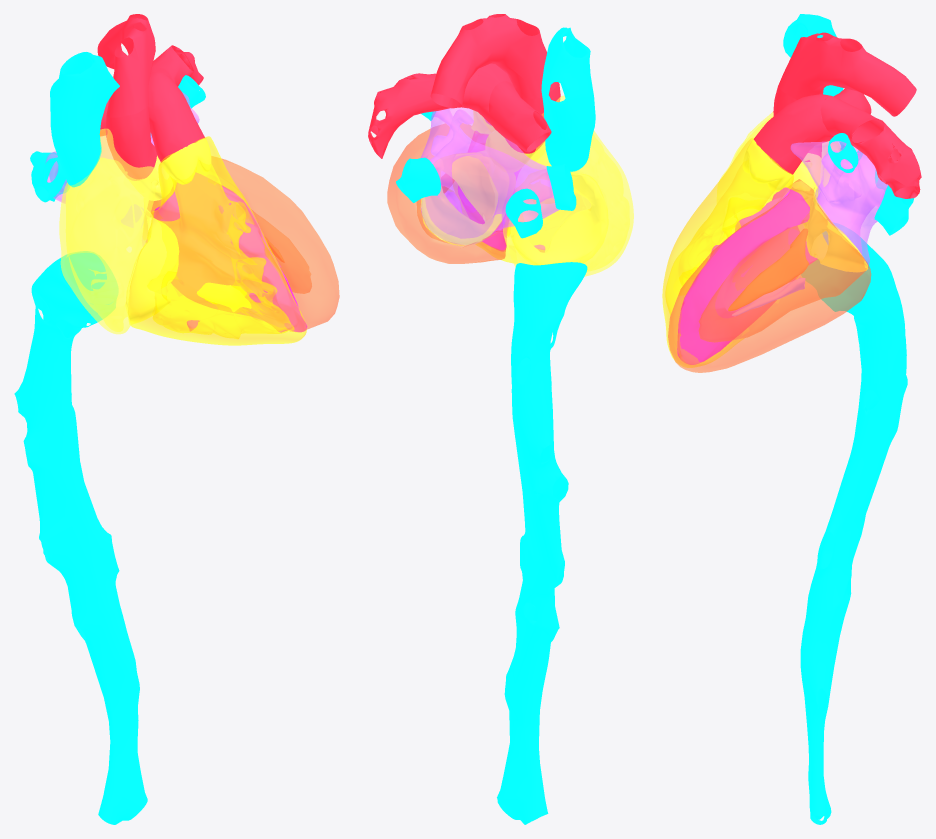
File: herz-male-mobil.glb
3 renders of one model, left to right at view 1: azimuth 30°, elevation 25°; view 2: azimuth 150°, elevation 25°; view 3: azimuth 270°, elevation 25°, orthographic.
Parts seen in each view (by area): view 1: 0:1:VH_M_heart_right_ventricle, 1:10:VH_M_inferior_vena_cava_b, 0:4:VH_M_right_cardiac_atrium, 0:2:VH_M_interventricular_septum, 0:0:VH_M_heart_left_ventricle, 1:11:VH_M_inferior_vena_cava_a, 1:9:VH_M_superior_vena_cava, 1:0:VH_M_aortic_arch, 0:9:VH_M_tricuspid_valve, 1:4:VH_M_pulmonary_trunk, 1:1:VH_M_ascending_aorta, 0:8:VH_M_pulmonary_valve (+6 smaller); view 2: 1:10:VH_M_inferior_vena_cava_b, 0:3:VH_M_left_cardiac_atrium, 0:4:VH_M_right_cardiac_atrium, 1:0:VH_M_aortic_arch, 1:11:VH_M_inferior_vena_cava_a, 1:9:VH_M_superior_vena_cava, 0:7:VH_M_mitral_valve, 0:0:VH_M_heart_left_ventricle, 0:9:VH_M_tricuspid_valve, 1:2:VH_M_pulmonary_artery_L, 1:3:VH_M_pulmonary_artery_R, 0:1:VH_M_heart_right_ventricle (+7 smaller); view 3: 0:0:VH_M_heart_left_ventricle, 1:10:VH_M_inferior_vena_cava_b, 0:2:VH_M_interventricular_septum, 0:1:VH_M_heart_right_ventricle, 1:0:VH_M_aortic_arch, 1:11:VH_M_inferior_vena_cava_a, 0:3:VH_M_left_cardiac_atrium, 1:2:VH_M_pulmonary_artery_L, 1:4:VH_M_pulmonary_trunk, 0:7:VH_M_mitral_valve, 0:12:VH_M_papillary_muscle_of_heart_anterolateral, 0:8:VH_M_pulmonary_valve (+8 smaller).
Part boxes in pixels (<box>): 0:1:VH_M_heart_right_ventricle: <box>128,136,306,345</box>; 1:10:VH_M_inferior_vena_cava_b: <box>14,346,147,824</box>; 0:4:VH_M_right_cardiac_atrium: <box>59,128,158,334</box>; 0:2:VH_M_interventricular_septum: <box>146,173,307,332</box>; 0:0:VH_M_heart_left_ventricle: <box>147,156,339,331</box>; 1:11:VH_M_inferior_vena_cava_a: <box>31,251,117,362</box>; 1:9:VH_M_superior_vena_cava: <box>50,52,119,187</box>; 1:0:VH_M_aortic_arch: <box>97,14,155,117</box>; 0:9:VH_M_tricuspid_valve: <box>125,217,178,324</box>; 1:4:VH_M_pulmonary_trunk: <box>148,72,204,162</box>; 1:1:VH_M_ascending_aorta: <box>105,106,156,180</box>; 0:8:VH_M_pulmonary_valve: <box>161,138,211,184</box>; 1:10:VH_M_inferior_vena_cava_b: <box>497,386,568,824</box>; 0:3:VH_M_left_cardiac_atrium: <box>420,107,558,245</box>; 0:4:VH_M_right_cardiac_atrium: <box>503,95,633,276</box>; 1:0:VH_M_aortic_arch: <box>430,14,557,108</box>; 1:11:VH_M_inferior_vena_cava_a: <box>511,262,587,395</box>; 1:9:VH_M_superior_vena_cava: <box>541,27,595,171</box>; 0:7:VH_M_mitral_valve: <box>421,151,515,245</box>; 0:0:VH_M_heart_left_ventricle: <box>387,123,507,263</box>; 0:9:VH_M_tricuspid_valve: <box>510,169,608,264</box>; 1:2:VH_M_pulmonary_artery_L: <box>368,69,478,158</box>; 1:3:VH_M_pulmonary_artery_R: <box>489,81,551,152</box>; 0:1:VH_M_heart_right_ventricle: <box>471,110,590,263</box>; 0:0:VH_M_heart_left_ventricle: <box>668,179,871,372</box>; 1:10:VH_M_inferior_vena_cava_b: <box>800,339,907,824</box>; 0:2:VH_M_interventricular_septum: <box>677,187,816,364</box>; 0:1:VH_M_heart_right_ventricle: <box>662,137,793,367</box>; 1:0:VH_M_aortic_arch: <box>778,32,916,116</box>; 1:11:VH_M_inferior_vena_cava_a: <box>801,223,905,349</box>; 0:3:VH_M_left_cardiac_atrium: <box>790,141,887,265</box>; 1:2:VH_M_pulmonary_artery_L: <box>820,96,921,198</box>; 1:4:VH_M_pulmonary_trunk: <box>753,94,840,174</box>; 0:7:VH_M_mitral_valve: <box>803,187,867,272</box>; 0:12:VH_M_papillary_muscle_of_heart_anterolateral: <box>728,229,808,310</box>; 0:8:VH_M_pulmonary_valve: <box>743,139,792,192</box>.
Size of the model in its own units: 0.124 by 0.4007 by 0.1179.
